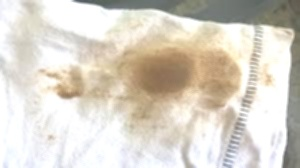earth: (131, 49, 238, 101), (53, 66, 83, 97)
